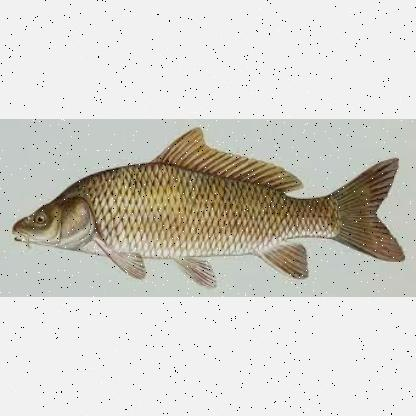ikan-mas: (11, 134, 407, 276)
